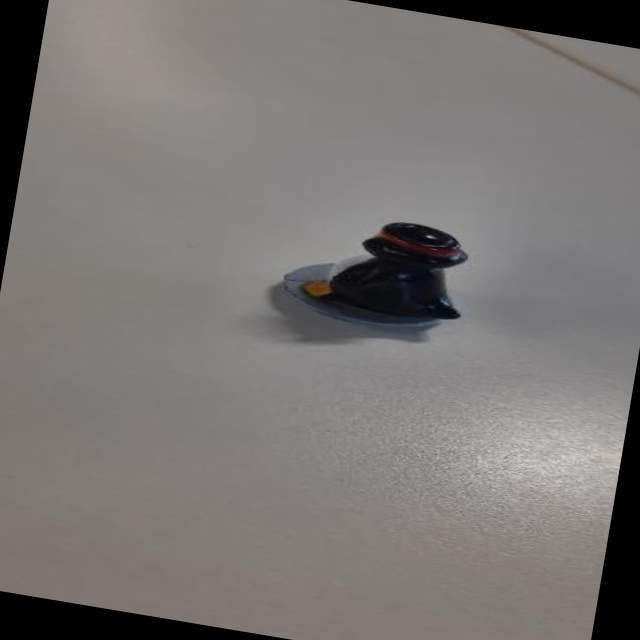Penguin: (262, 193, 492, 357)
